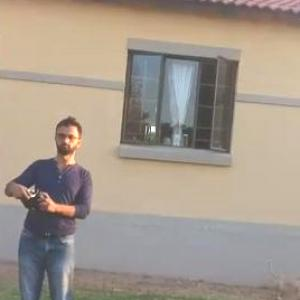follow: (0, 108, 103, 299)
null: (261, 256, 299, 299)
